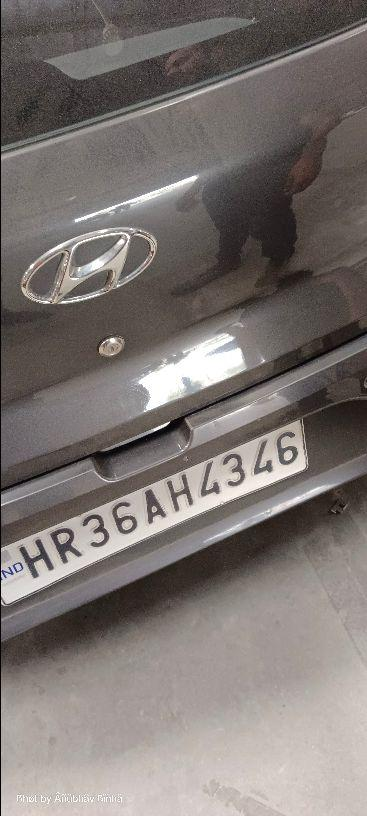license_plate: (1, 5, 365, 645), (0, 415, 309, 608)
